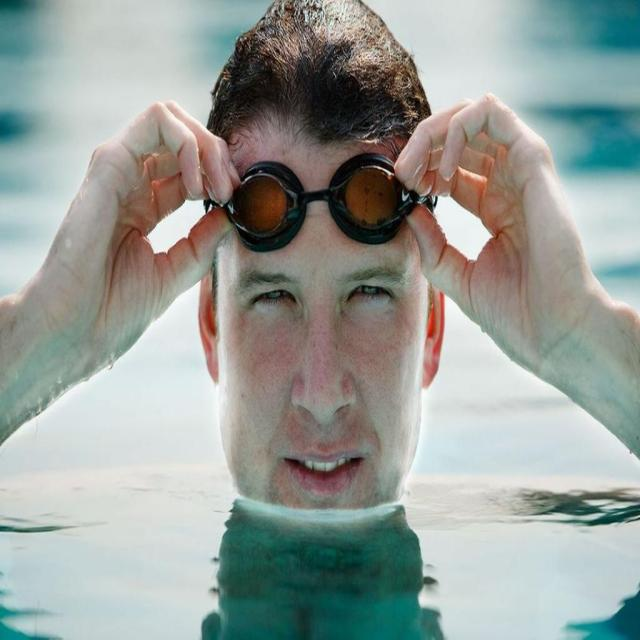Face: (225, 118, 427, 516)
